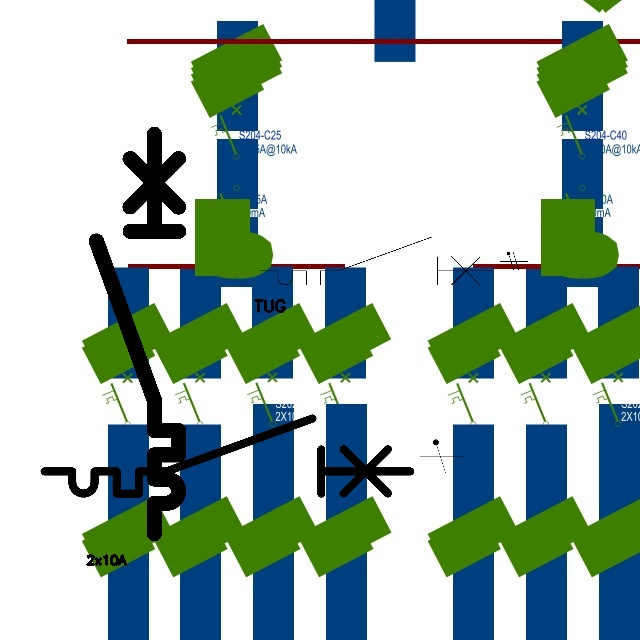interruptor_termomagnetico: (86, 124, 189, 544), (35, 409, 419, 503), (254, 231, 500, 291)
